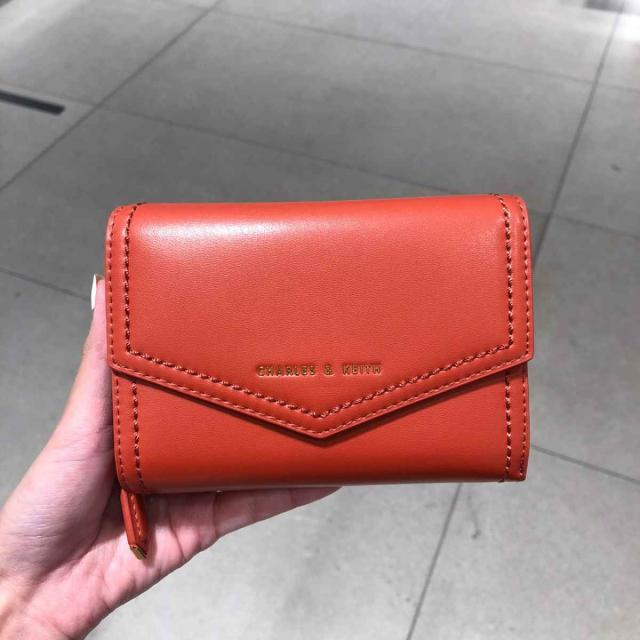Handbag: (101, 153, 540, 518)
